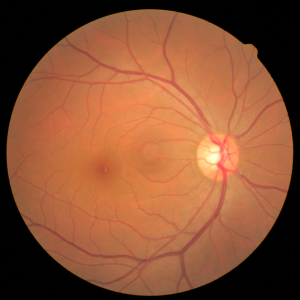glaucoma: (74, 100, 264, 227)
